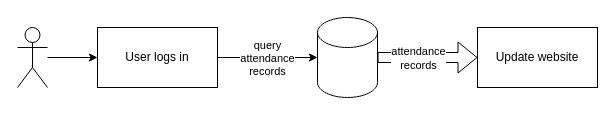
The diagram is 615 pixels wide and 126 high, and some of its shapes have lost their labels. Each missing label, with the box of its shape:
Database: (316, 16, 378, 98)
User: (16, 26, 48, 88)
